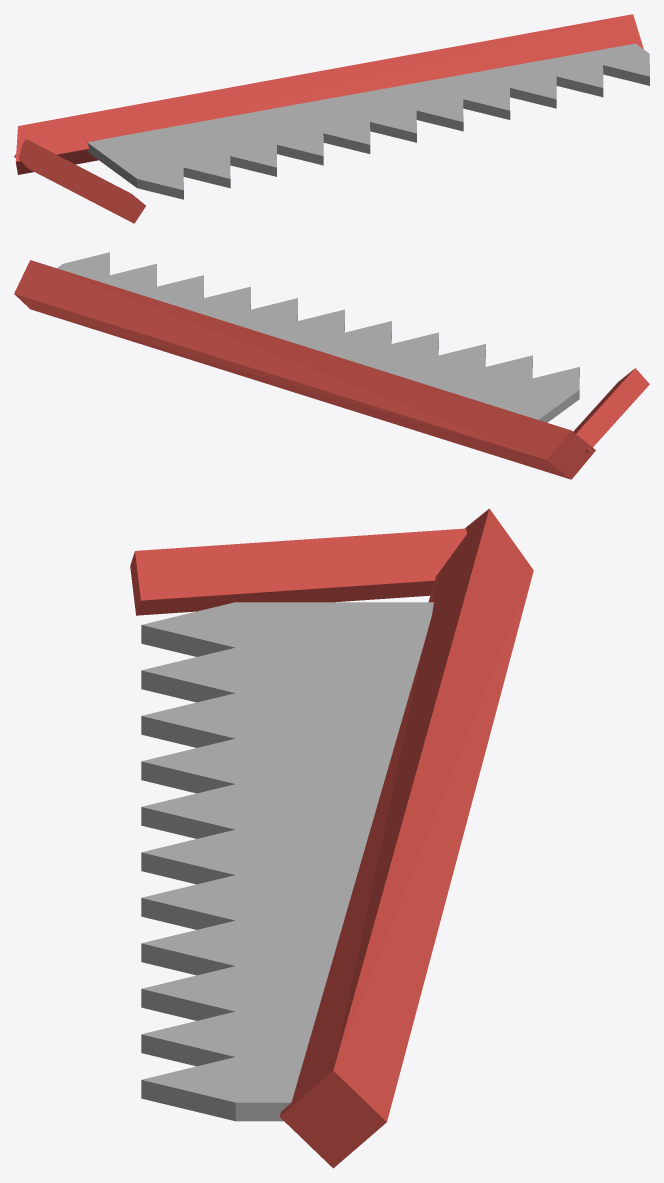
File: saw.dae
3 renders of one model, top to bottom at view 1: azimuth 30°, elevation 25°; view 2: azimuth 150°, elevation 25°; view 3: azimuth 270°, elevation 25°, orthographic. The views are drawn at different scales.
Parts seen in each view (by area): view 1: Cube_001, Cube, Cube_002; view 2: Cube, Cube_001, Cube_002; view 3: Cube_001, Cube, Cube_002.
Part boxes in pixels (left/top/right/bottom): Cube_001: left=87, top=43, right=649, bottom=199; Cube: left=15, top=14, right=643, bottom=174; Cube_002: left=14, top=139, right=145, bottom=223; Cube: left=14, top=260, right=595, bottom=479; Cube_001: left=57, top=252, right=579, bottom=422; Cube_002: left=573, top=368, right=649, bottom=453; Cube_001: left=141, top=602, right=433, bottom=1121; Cube: left=279, top=508, right=533, bottom=1168; Cube_002: left=130, top=528, right=466, bottom=615.
Bounding box in the file's own units: 13.79 × 4.07 × 1.09.
